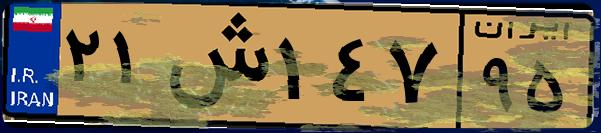1: (270, 28, 330, 110), (110, 28, 158, 98)
2: (57, 26, 110, 100)
4: (330, 28, 385, 110)
5: (525, 38, 570, 115)
7: (385, 28, 445, 110)
9: (475, 38, 525, 113)
ش: (158, 12, 270, 120)
